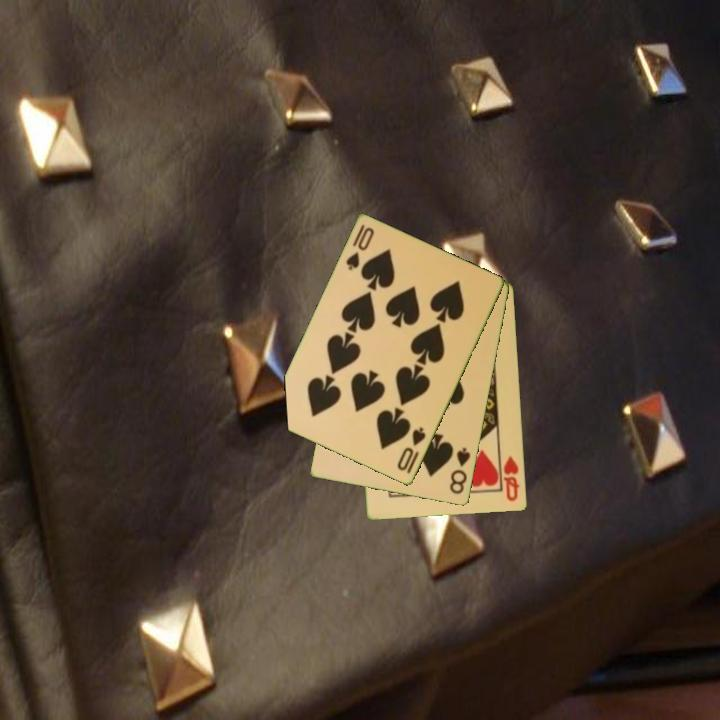10s: (342, 221, 377, 274), (394, 423, 429, 474)
8s: (446, 444, 474, 497)
Qh: (500, 452, 522, 504)
